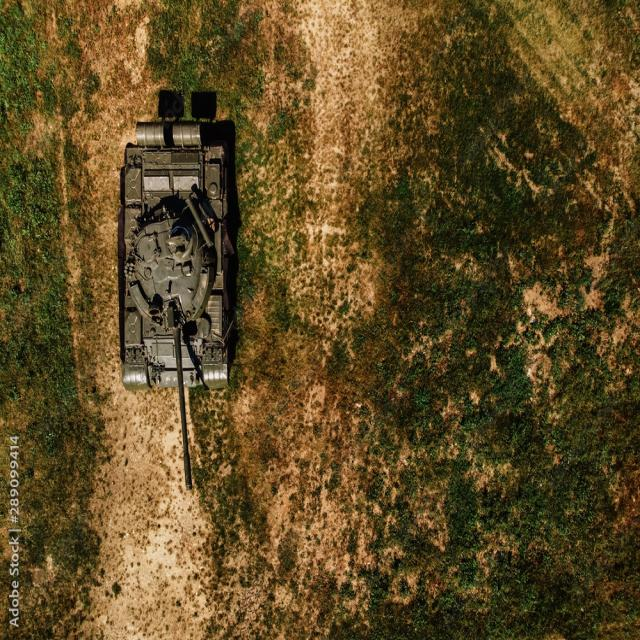tank: (118, 115, 242, 498)
